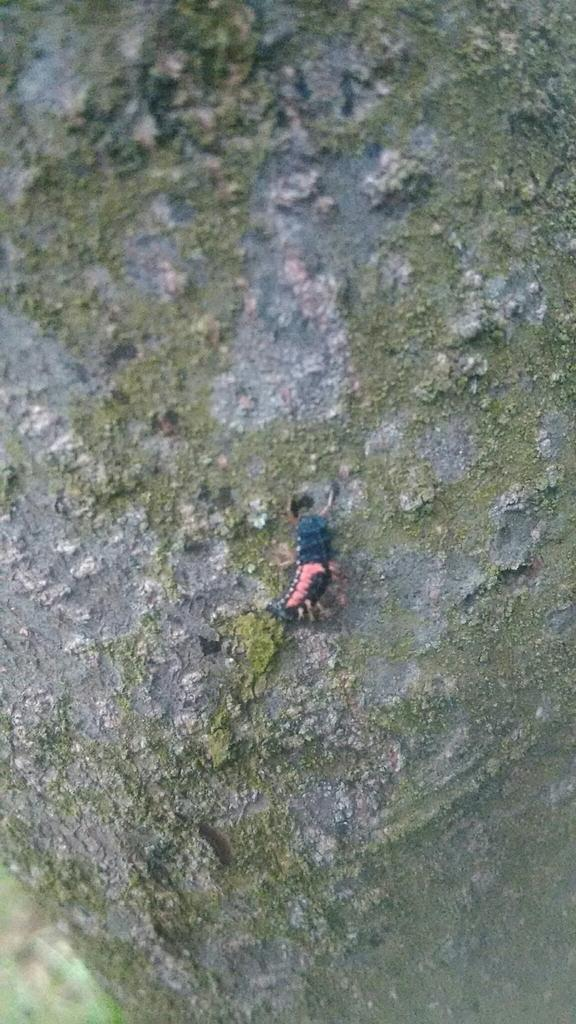ladybug: (264, 512, 351, 633)
